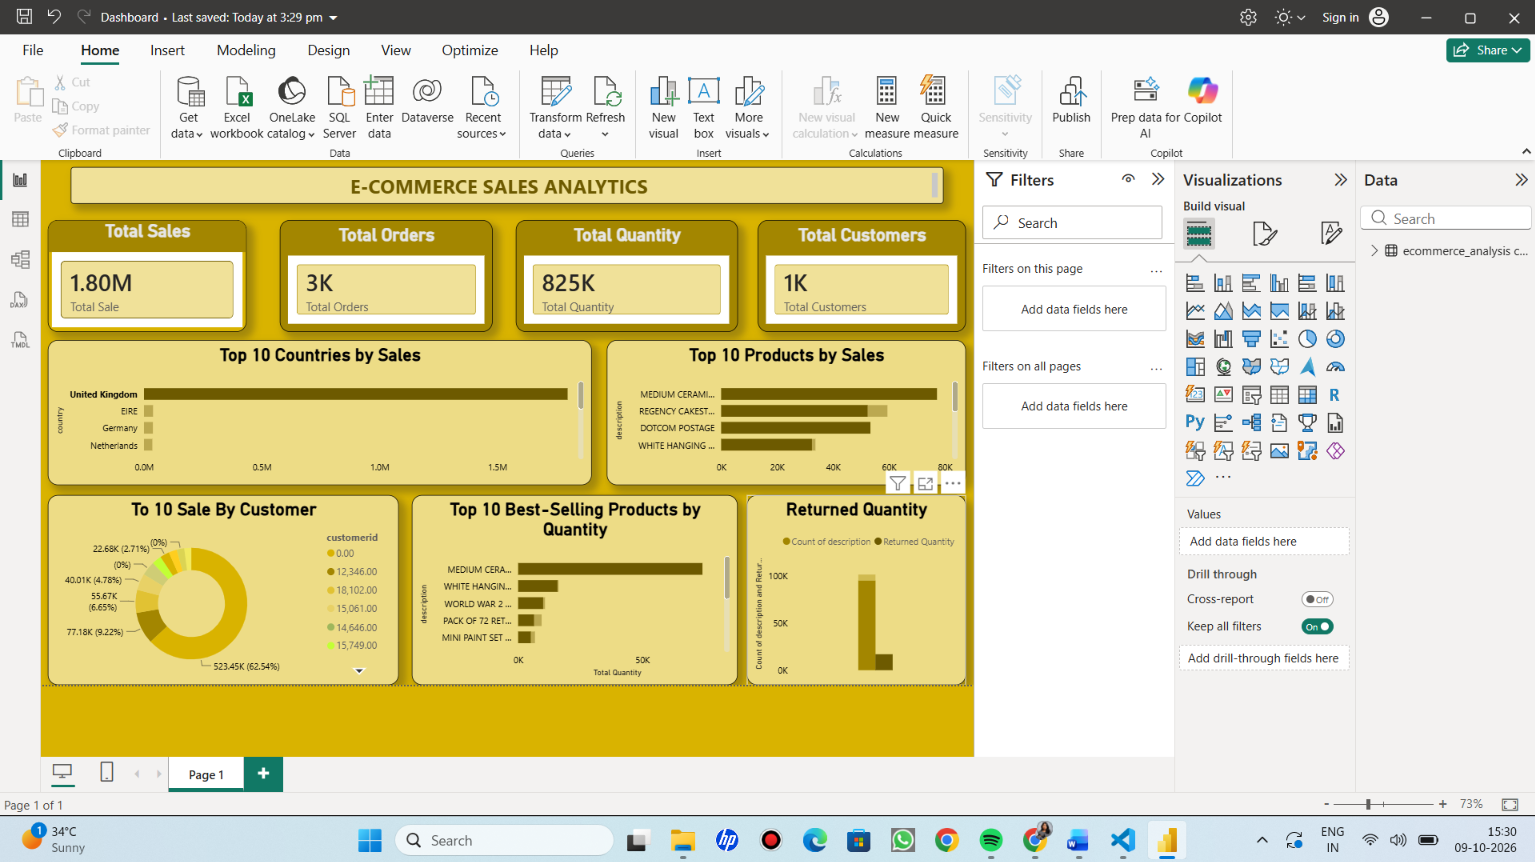

What the dashboard file says about the page in this screenshot:
{"tool":"powerbi","page":{"name":"Page 1","canvas":[1280,720],"ordinal":0},"visuals":[{"type":"cardVisual","title":"Total Sales","fields":{"Data":["ecommerce_analysis cleaned_ecommerce_data.Total Sale"]},"box":[9.6,82.3,273.1,153.7],"z":0},{"type":"cardVisual","title":"Total Orders","fields":{"Data":["ecommerce_analysis cleaned_ecommerce_data.Total Orders"]},"box":[328,82.3,292.3,153.7],"z":1000},{"type":"cardVisual","title":"Total Quantity","fields":{"Data":["ecommerce_analysis cleaned_ecommerce_data.Total Quantity"]},"box":[651.8,82.3,304.6,153.7],"z":2000},{"type":"cardVisual","title":"Total Customers","fields":{"Data":["ecommerce_analysis cleaned_ecommerce_data.Total Customers"]},"box":[983.9,82.3,285.4,153.7],"z":3000},{"type":"clusteredBarChart","title":"Top 10 Countries by Sales","fields":{"Category":["ecommerce_analysis cleaned_ecommerce_data.country"],"Y":["ecommerce_analysis cleaned_ecommerce_data.Total Sale"]},"box":[9.6,247,746.5,199],"z":4000},{"type":"clusteredBarChart","title":"Top 10 Products by Sales","fields":{"Category":["ecommerce_analysis cleaned_ecommerce_data.description"],"Y":["ecommerce_analysis cleaned_ecommerce_data.Total Sale"]},"box":[776.7,247,492.6,199],"z":5000},{"type":"barChart","title":"Top 10 Best-Selling Products by Quantity","fields":{"Category":["ecommerce_analysis cleaned_ecommerce_data.description"],"Y":["ecommerce_analysis cleaned_ecommerce_data.Total Quantity"]},"box":[509.1,459.7,447.3,260.7],"z":6000},{"type":"donutChart","title":"To 10 Sale By Customer","fields":{"Category":["ecommerce_analysis cleaned_ecommerce_data.customerid"],"Y":["ecommerce_analysis cleaned_ecommerce_data.Total Sale"]},"box":[10,460,481.9,260.6],"z":7000},{"type":"clusteredColumnChart","title":"Returned Quantity","fields":{"Y":["CountNonNull(ecommerce_analysis cleaned_ecommerce_data.description)","ecommerce_analysis cleaned_ecommerce_data.Returned Quantity"]},"box":[968.8,459.7,300.5,260.7],"z":8000},{"type":"textbox","box":[41.2,9.6,1197.9,50.8],"z":9000}]}

Visuals, with their boxes on the page's 1280x720 design canvas (x1, y1, x2, y2). These are canvas units, not pixel positions in the 1535x862 screenshot, which may show the page scaled, cropped or inside an application window:
"Total Sales" cardVisual: Rect(10, 82, 283, 236)
"Total Orders" cardVisual: Rect(328, 82, 620, 236)
"Total Quantity" cardVisual: Rect(652, 82, 956, 236)
"Total Customers" cardVisual: Rect(984, 82, 1269, 236)
"Top 10 Countries by Sales" clusteredBarChart: Rect(10, 247, 756, 446)
"Top 10 Products by Sales" clusteredBarChart: Rect(777, 247, 1269, 446)
"Top 10 Best-Selling Products by Quantity" barChart: Rect(509, 460, 956, 720)
"To 10 Sale By Customer" donutChart: Rect(10, 460, 492, 721)
"Returned Quantity" clusteredColumnChart: Rect(969, 460, 1269, 720)
textbox: Rect(41, 10, 1239, 60)
